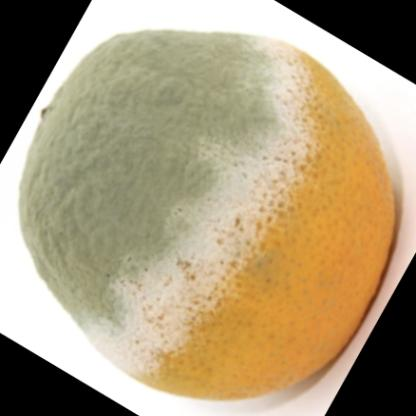rotten: (22, 31, 399, 396)
